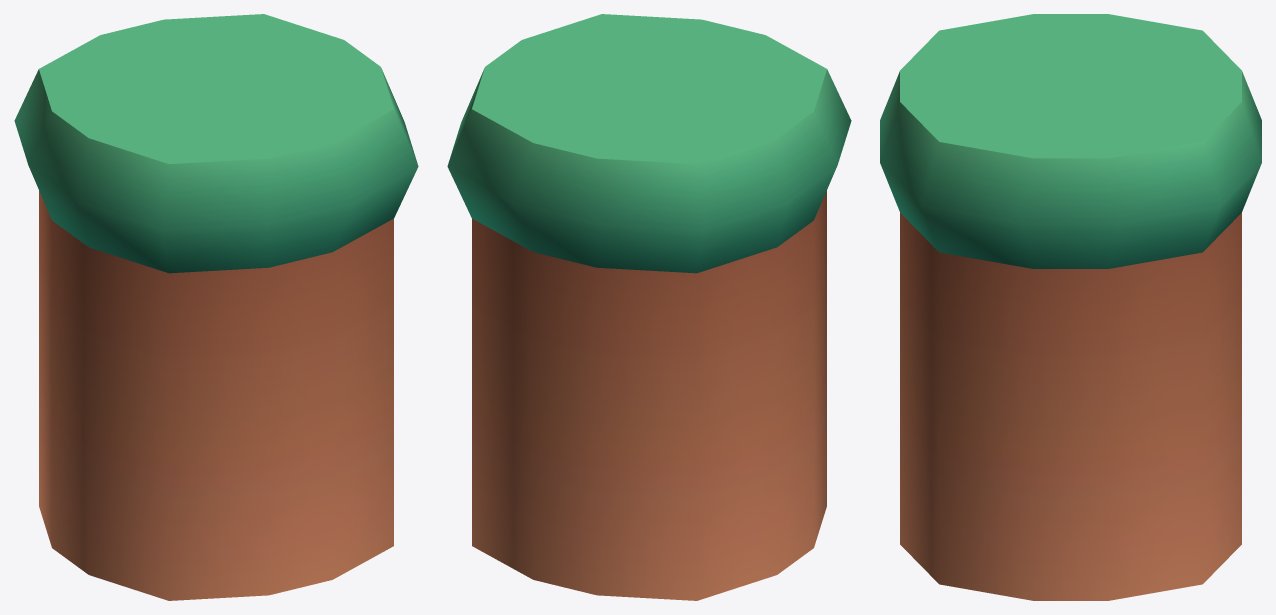
The model's file is kenney-platformer-block-grass-narrow.glb.
3 renders of one model, left to right at view 1: azimuth 30°, elevation 25°; view 2: azimuth 150°, elevation 25°; view 3: azimuth 270°, elevation 25°, orthographic.
Visible parts, largest first — view 1: block-grass-narrow; view 2: block-grass-narrow; view 3: block-grass-narrow.
Boxes of the visible parts, x1=… form: block-grass-narrow: x1=14, y1=14, x2=418, y2=600; block-grass-narrow: x1=447, y1=14, x2=851, y2=600; block-grass-narrow: x1=880, y1=14, x2=1261, y2=600.
Size of the model in its own units: 0.7821 by 1 by 0.7821.
1 material, 1 textured.
